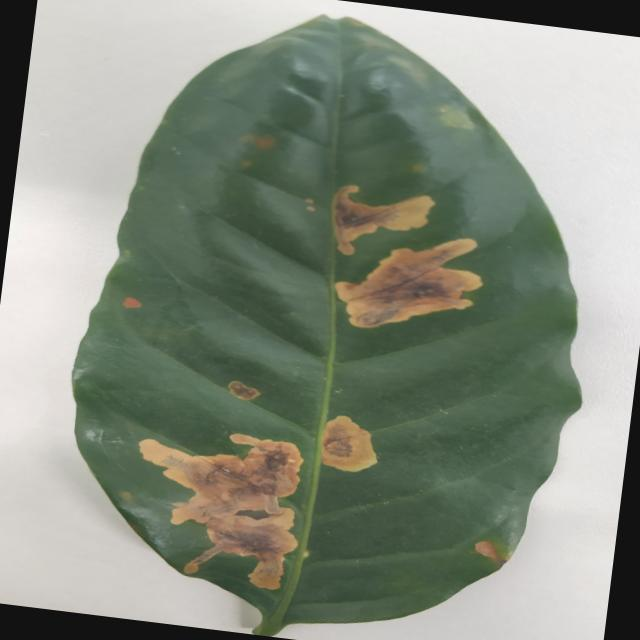KaratDaunKopi: (139, 433, 303, 590), (335, 238, 482, 327), (334, 185, 435, 255), (322, 415, 376, 471), (474, 540, 506, 568), (228, 380, 260, 400), (242, 135, 276, 151), (122, 297, 141, 307)
